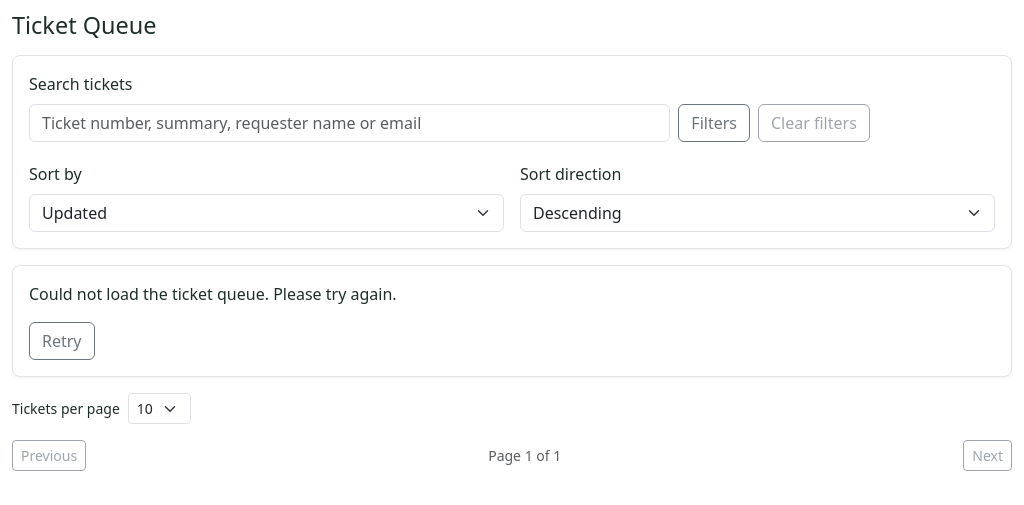
it: Staff Ticket Queue (UI-06) › shows safe failure with Retry and preserves search
Expected: the message shows "Could not load the ticket queue", left=29, top=283, right=397, bottom=305
Click the button "Retry" at {"x": 62, "y": 341}, box left=29, top=322, right=94, bottom=360
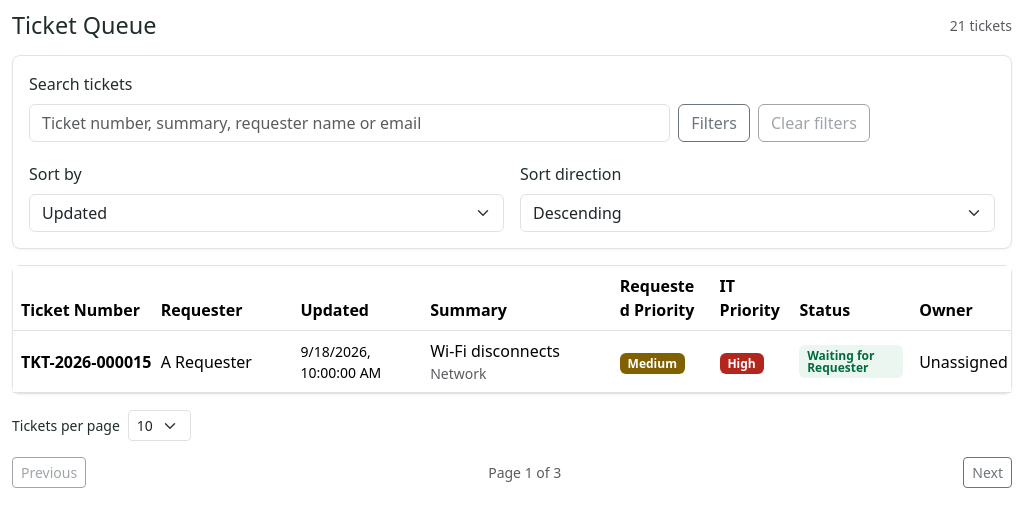
Expected: the table is shown, left=13, top=266, right=1011, bottom=393
